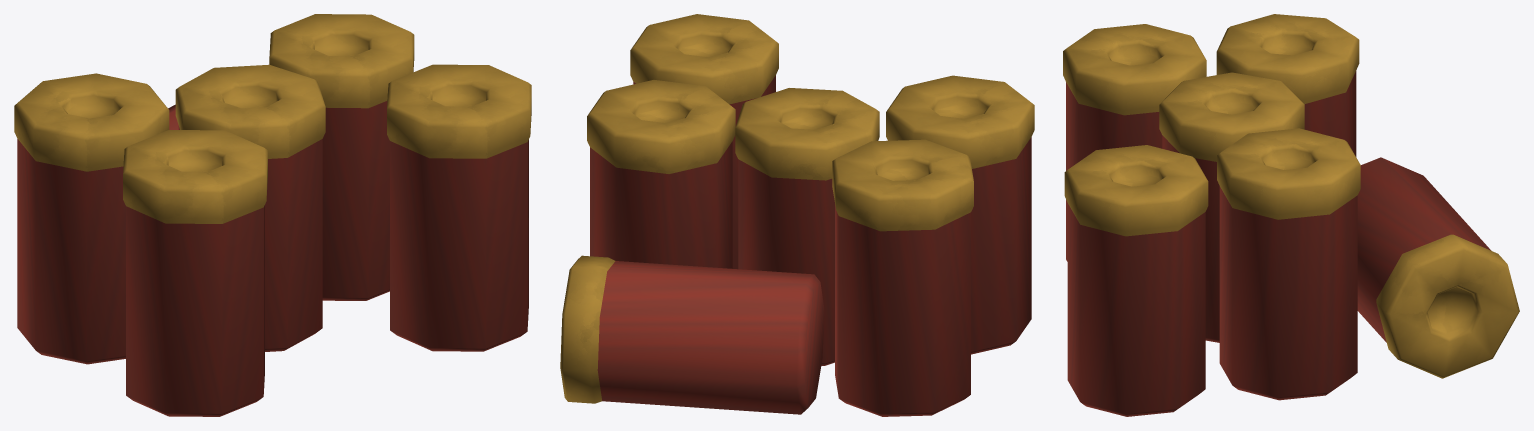
The model's file is shotgun boolets.fbx.
The picture shows the model from 3 angles, left to right: view 1: azimuth 30°, elevation 25°; view 2: azimuth 150°, elevation 25°; view 3: azimuth 270°, elevation 25°; orthographic projection. The views are drawn at different scales.
Visible parts, largest first — view 1: shotgun boolets; view 2: shotgun boolets; view 3: shotgun boolets.
Part boxes in pixels (x1,y1,x2,y2): shotgun boolets: (14, 14, 531, 416); shotgun boolets: (560, 14, 1034, 416); shotgun boolets: (1063, 14, 1519, 416).
Size of the model in its own units: 650 by 346 by 654.
